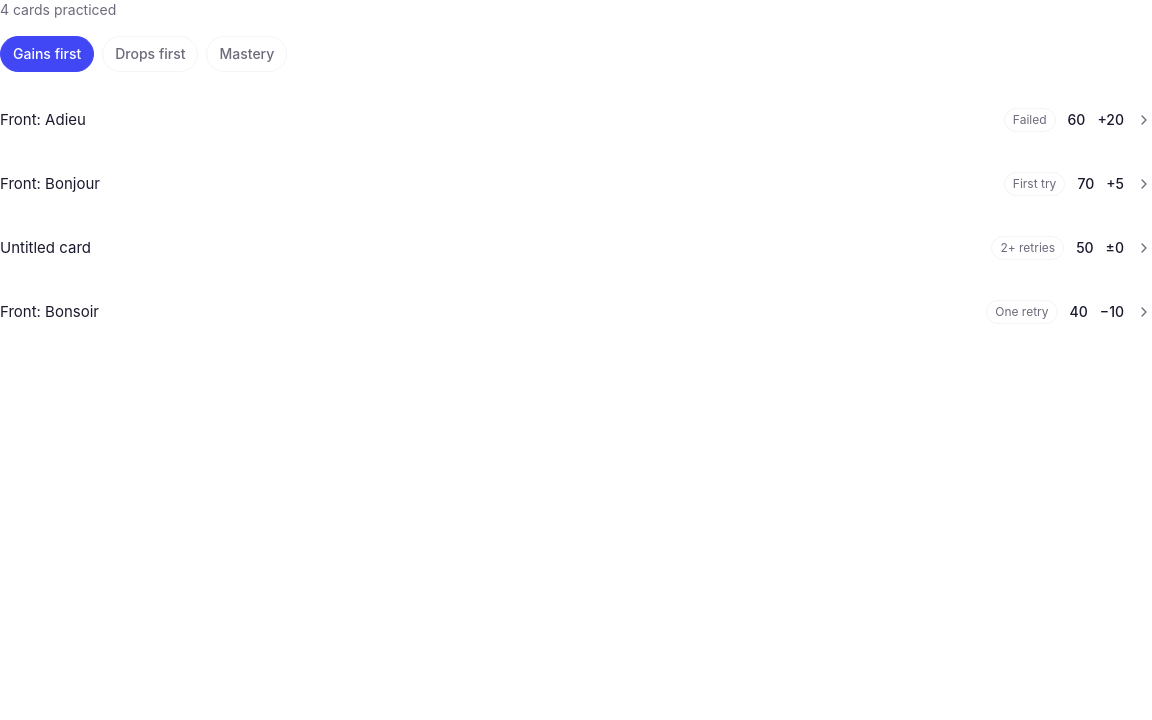
Scenario: RunBreakdown › opens the detail sheet with labels, ratings, every attempt, and the Fields section for a two-attempt card
Step 1. Click the button "Front: Bonsoir One retry 40 −10" → (49, 312), box [0,280,1151,344]
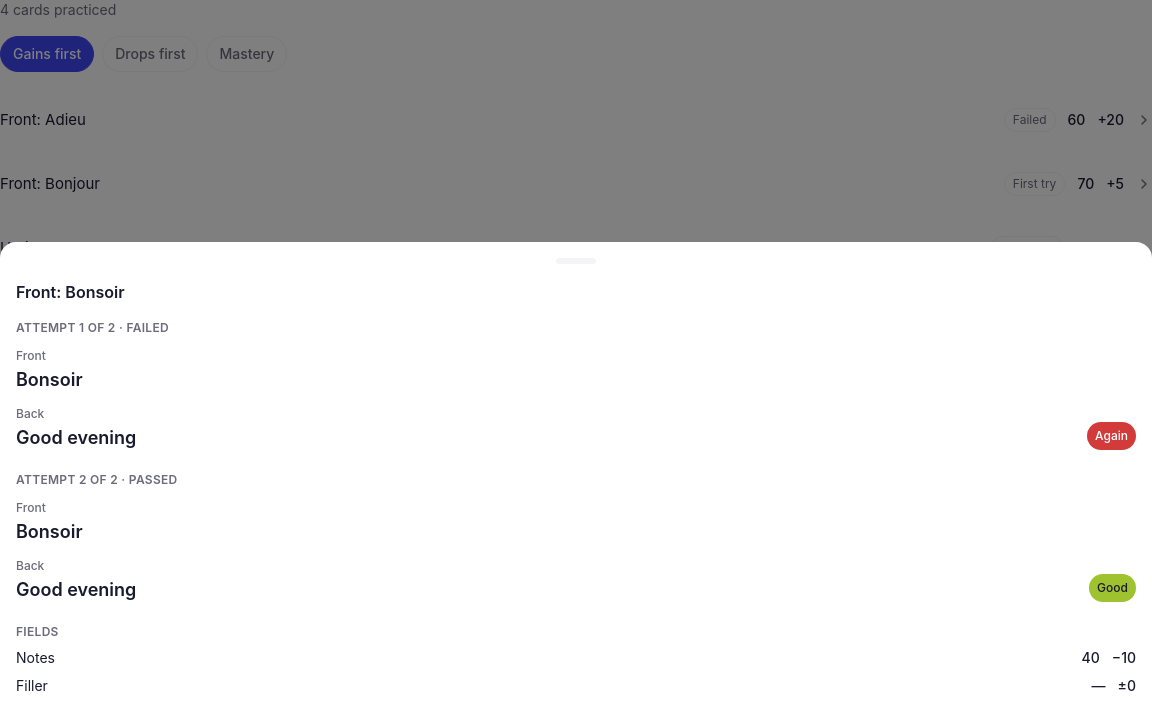
Check: the heading "Attempt 1 of 2 · Failed" is shown, box [16,320,169,335]
Check: the heading "Attempt 2 of 2 · Passed" is shown, box [16,472,178,487]
Check: the text "Front" is shown 2 times, box [16,348,46,363]; [16,500,46,515]
